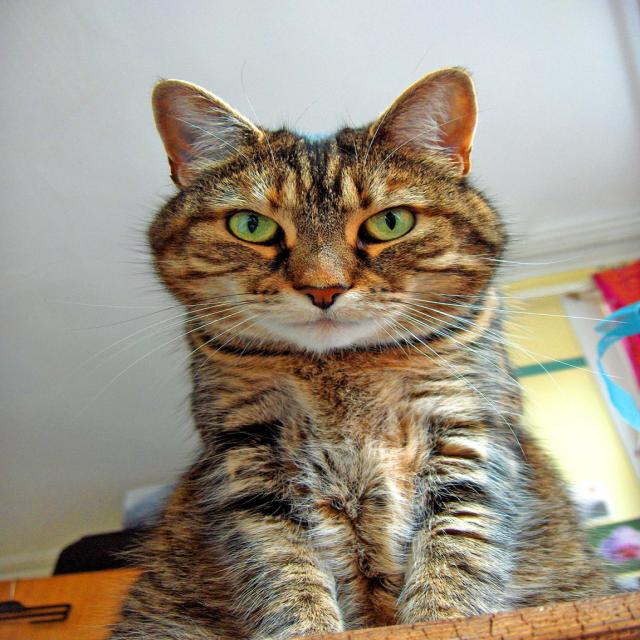left eye: (358, 204, 418, 244)
